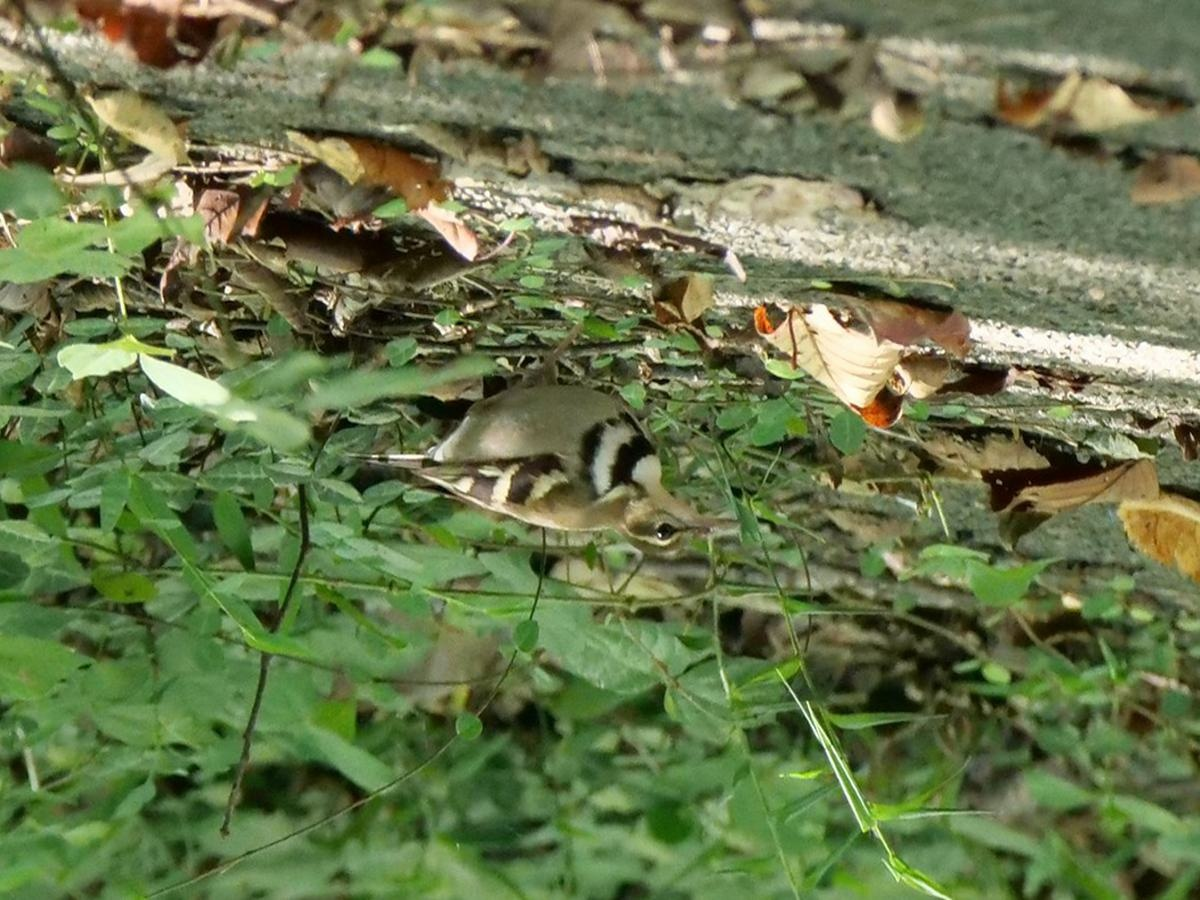wagtail: (351, 382, 729, 546)
